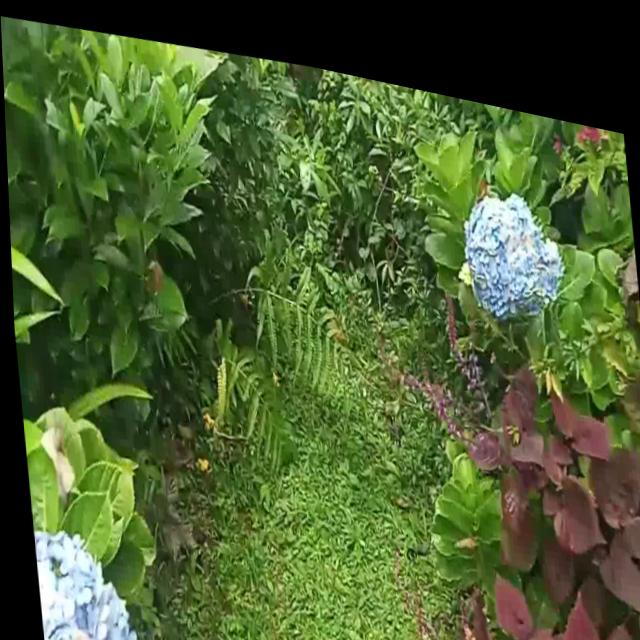Flower: (456, 155, 571, 312), (28, 517, 137, 640)
